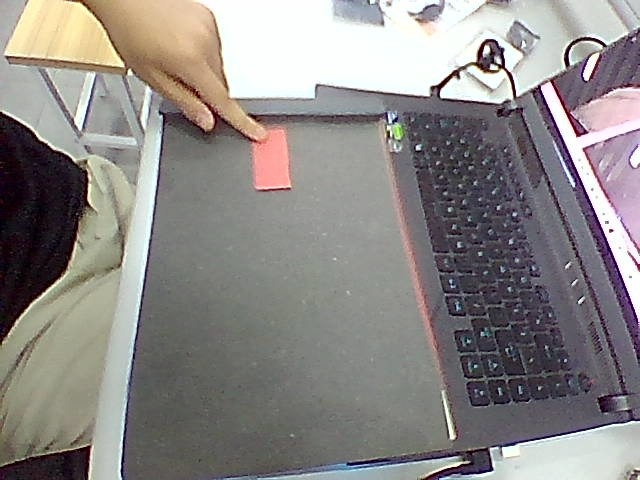card: (253, 128, 289, 190)
